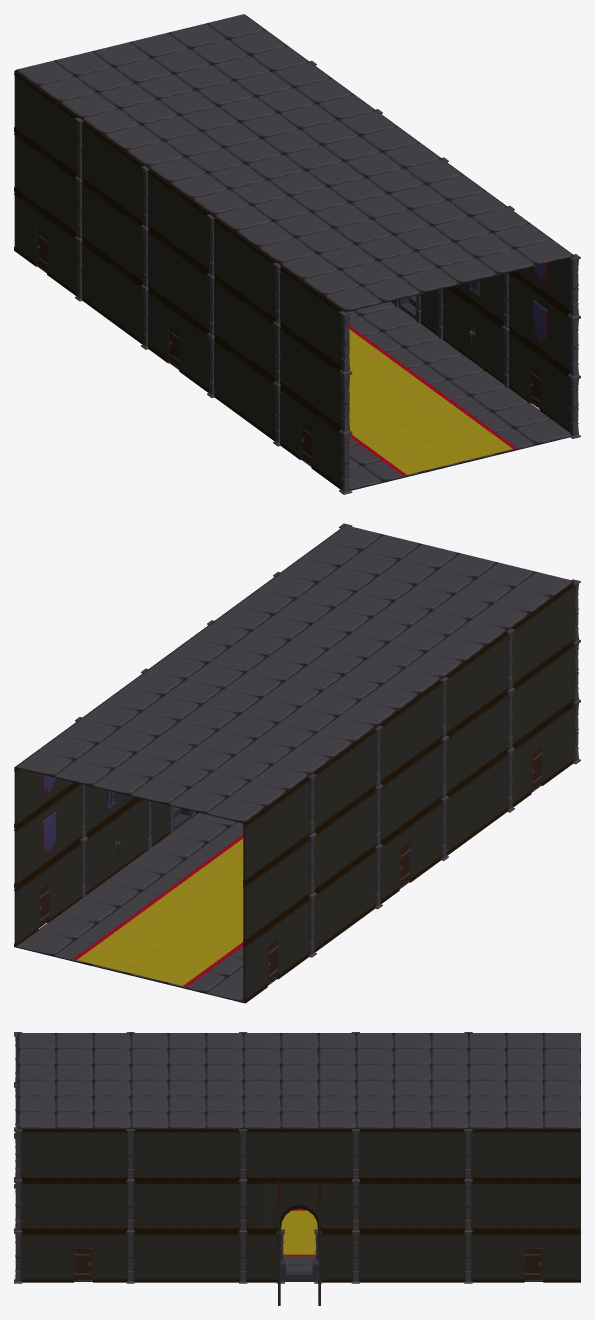
File: CastleModule2 1.fbx
3 views of the same model, one above another, from view 1: azimuth 30°, elevation 25°; view 2: azimuth 150°, elevation 25°; view 3: azimuth 270°, elevation 25° (orthographic). The views are drawn at different scales.
Parts seen in each view (by area): view 1: CarpetHall.032, CarpetHall.033, CarpetHall.036, CarpetHall.040, CarpetHall.038, CarpetHall.030, CarpetHall.034, CarpetHall.035, CarpetHall.042, WallDoorHall.006, WallDoorHall.008, WallDoorHall.010 (+171 smaller); view 2: CarpetHall.053, CarpetHall.057, CarpetHall.058, CarpetHall.051, CarpetHall.059, CarpetHall.055, CarpetHall.056, CarpetHall.054, CarpetHall.049, WallDoorHall.010, WallDoorHall.008, WallDoorHall.006 (+176 smaller); view 3: ArchHall, WallDoorHall.007, WallDoorHall.011, HalfWallHall.569, HalfWallHall.572, HalfWallHall.577, HalfWallHall.585, HalfWallHall.586, HalfWallHall.588, HalfWallHall.593, HalfWallHall.595, HalfWallHall.137 (+166 smaller).
Boxes of the visible parts, box(x1,y1,x2,y2) form: CarpetHall.032: box(438, 432, 516, 461); CarpetHall.033: box(359, 430, 437, 459); CarpetHall.036: box(394, 400, 472, 429); CarpetHall.040: box(350, 367, 428, 397); CarpetHall.038: box(372, 383, 450, 413); CarpetHall.030: box(381, 446, 459, 475); CarpetHall.034: box(416, 416, 494, 445); CarpetHall.035: box(349, 413, 415, 443); CarpetHall.042: box(349, 351, 406, 381); WallDoorHall.006: box(300, 400, 322, 475); WallDoorHall.008: box(168, 304, 190, 379); WallDoorHall.010: box(36, 207, 58, 282); CarpetHall.053: box(139, 894, 217, 924); CarpetHall.057: box(95, 927, 173, 956); CarpetHall.058: box(130, 957, 208, 986); CarpetHall.051: box(161, 878, 239, 908); CarpetHall.059: box(73, 943, 151, 972); CarpetHall.055: box(117, 911, 195, 940); CarpetHall.056: box(152, 941, 230, 970); CarpetHall.054: box(174, 925, 243, 954); CarpetHall.049: box(183, 862, 243, 892); WallDoorHall.010: box(267, 911, 289, 979); WallDoorHall.008: box(399, 815, 421, 882); WallDoorHall.006: box(531, 718, 553, 785); ArchHall: box(262, 1180, 336, 1231); WallDoorHall.007: box(55, 1231, 92, 1282); WallDoorHall.011: box(506, 1231, 543, 1282); HalfWallHall.569: box(149, 1129, 168, 1180); HalfWallHall.572: box(205, 1129, 224, 1180); HalfWallHall.577: box(374, 1129, 393, 1180); HalfWallHall.585: box(524, 1129, 543, 1180); HalfWallHall.586: box(543, 1129, 562, 1180); HalfWallHall.588: box(55, 1129, 74, 1180); HalfWallHall.593: box(280, 1129, 299, 1180); HalfWallHall.595: box(299, 1129, 318, 1180); HalfWallHall.137: box(149, 1231, 168, 1282).
Bounding box in the file's own units: 1695 × 910 × 3022.
